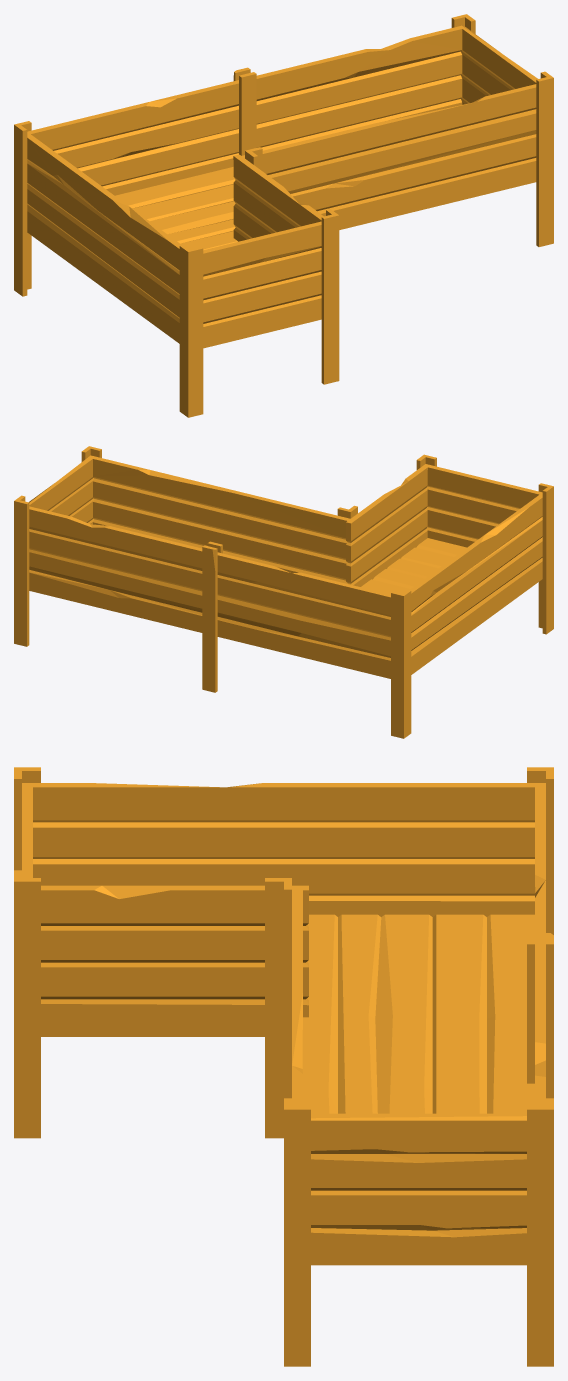
File: SM_Planter_Box_L_2x3m_A_Farm.fbx
3 renders of one model, top to bottom at view 1: azimuth 30°, elevation 25°; view 2: azimuth 150°, elevation 25°; view 3: azimuth 270°, elevation 25°, orthographic. The views are drawn at different scales.
Parts seen in each view (by area): view 1: planter-box-l-2x3m-a-farm; view 2: planter-box-l-2x3m-a-farm; view 3: planter-box-l-2x3m-a-farm.
Part boxes in pixels (x1,y1,x2,y2): planter-box-l-2x3m-a-farm: [14, 14, 553, 417]; planter-box-l-2x3m-a-farm: [14, 446, 553, 738]; planter-box-l-2x3m-a-farm: [14, 767, 553, 1366].
Bounding box in the file's own units: 3 × 1.05 × 2.
